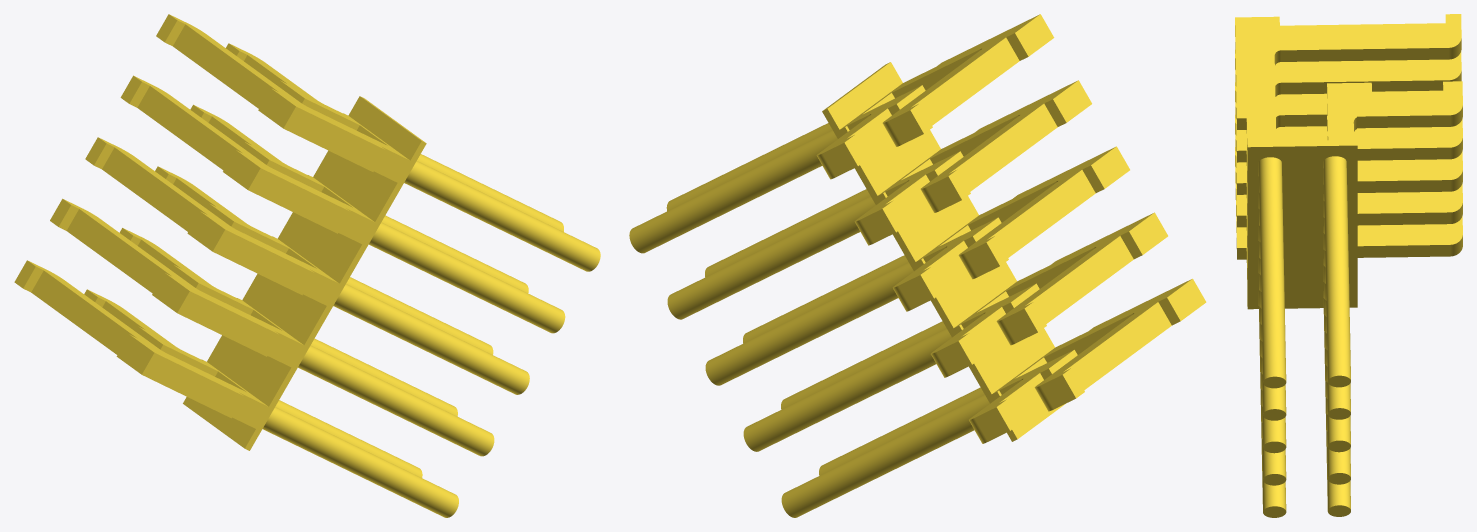
The model's file is data_pins__data_pins.gltf.
3 renders of one model, left to right at view 1: azimuth 30°, elevation 25°; view 2: azimuth 150°, elevation 25°; view 3: azimuth 270°, elevation 25°, orthographic. The views are drawn at different scales.
Visible parts, largest first — view 1: mesh89821, mesh89815, mesh89803, mesh89807, mesh89811, mesh89819, mesh89822, mesh89824, mesh89825, mesh89823, mesh89830, mesh89874 (+25 smaller); view 2: mesh89809, mesh89805, mesh89813, mesh89797, mesh89817, mesh89874, mesh89918, mesh89896, mesh89852, mesh89830, mesh89825, mesh89822 (+39 smaller); view 3: mesh89939, mesh89798, mesh89945, mesh89805, mesh89803, mesh89951, mesh89957, mesh89963, mesh89923, mesh89901, mesh89869, mesh89913 (+13 smaller).
Part boxes in pixels (bbox=[...]): mesh89821: bbox=[232, 141, 426, 450]; mesh89815: bbox=[298, 345, 494, 456]; mesh89803: bbox=[404, 161, 600, 271]; mesh89807: bbox=[369, 222, 565, 333]; mesh89811: bbox=[333, 284, 529, 394]; mesh89819: bbox=[262, 407, 458, 517]; mesh89822: bbox=[207, 335, 291, 406]; mesh89824: bbox=[277, 212, 361, 283]; mesh89825: bbox=[313, 150, 397, 221]; mesh89823: bbox=[242, 273, 326, 344]; mesh89830: bbox=[31, 270, 136, 354]; mesh89874: bbox=[102, 147, 206, 231]; mesh89809: bbox=[667, 196, 875, 319]; mesh89805: bbox=[629, 130, 837, 253]; mesh89813: bbox=[705, 262, 913, 385]; mesh89797: bbox=[781, 394, 989, 517]; mesh89817: bbox=[743, 328, 951, 451]; mesh89874: bbox=[987, 170, 1095, 257]; mesh89918: bbox=[911, 37, 1019, 125]; mesh89896: bbox=[949, 103, 1057, 191]; mesh89852: bbox=[1025, 236, 1133, 323]; mesh89830: bbox=[1064, 302, 1171, 389]; mesh89825: bbox=[860, 130, 940, 195]; mesh89822: bbox=[974, 328, 1054, 393]; mesh89939: bbox=[1235, 14, 1462, 141]; mesh89798: bbox=[1247, 145, 1357, 309]; mesh89945: bbox=[1235, 50, 1462, 170]; mesh89805: bbox=[1323, 156, 1350, 380]; mesh89803: bbox=[1258, 157, 1286, 381]; mesh89951: bbox=[1235, 82, 1462, 202]; mesh89957: bbox=[1235, 115, 1462, 235]; mesh89963: bbox=[1235, 147, 1462, 267]; mesh89923: bbox=[1281, 48, 1448, 61]; mesh89901: bbox=[1281, 80, 1448, 94]; mesh89869: bbox=[1357, 212, 1450, 225]; mesh89913: bbox=[1357, 147, 1450, 160].
Bounding box in the file's own units: 0.0099 × 0.00924 × 0.00447.
